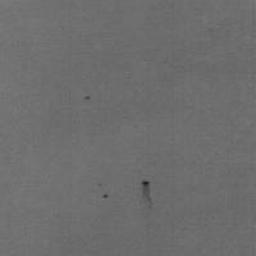Inclusion: (140, 179, 155, 211), (101, 192, 110, 200), (84, 95, 92, 101)
